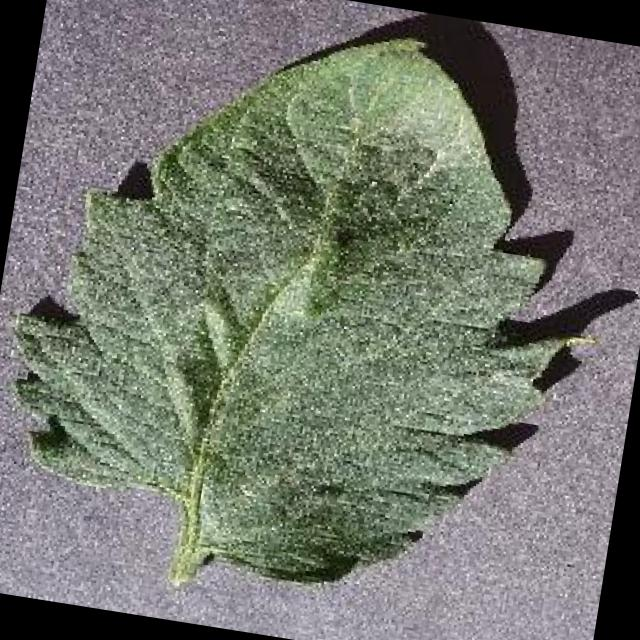Tomato_Healthy: (0, 0, 619, 633)
